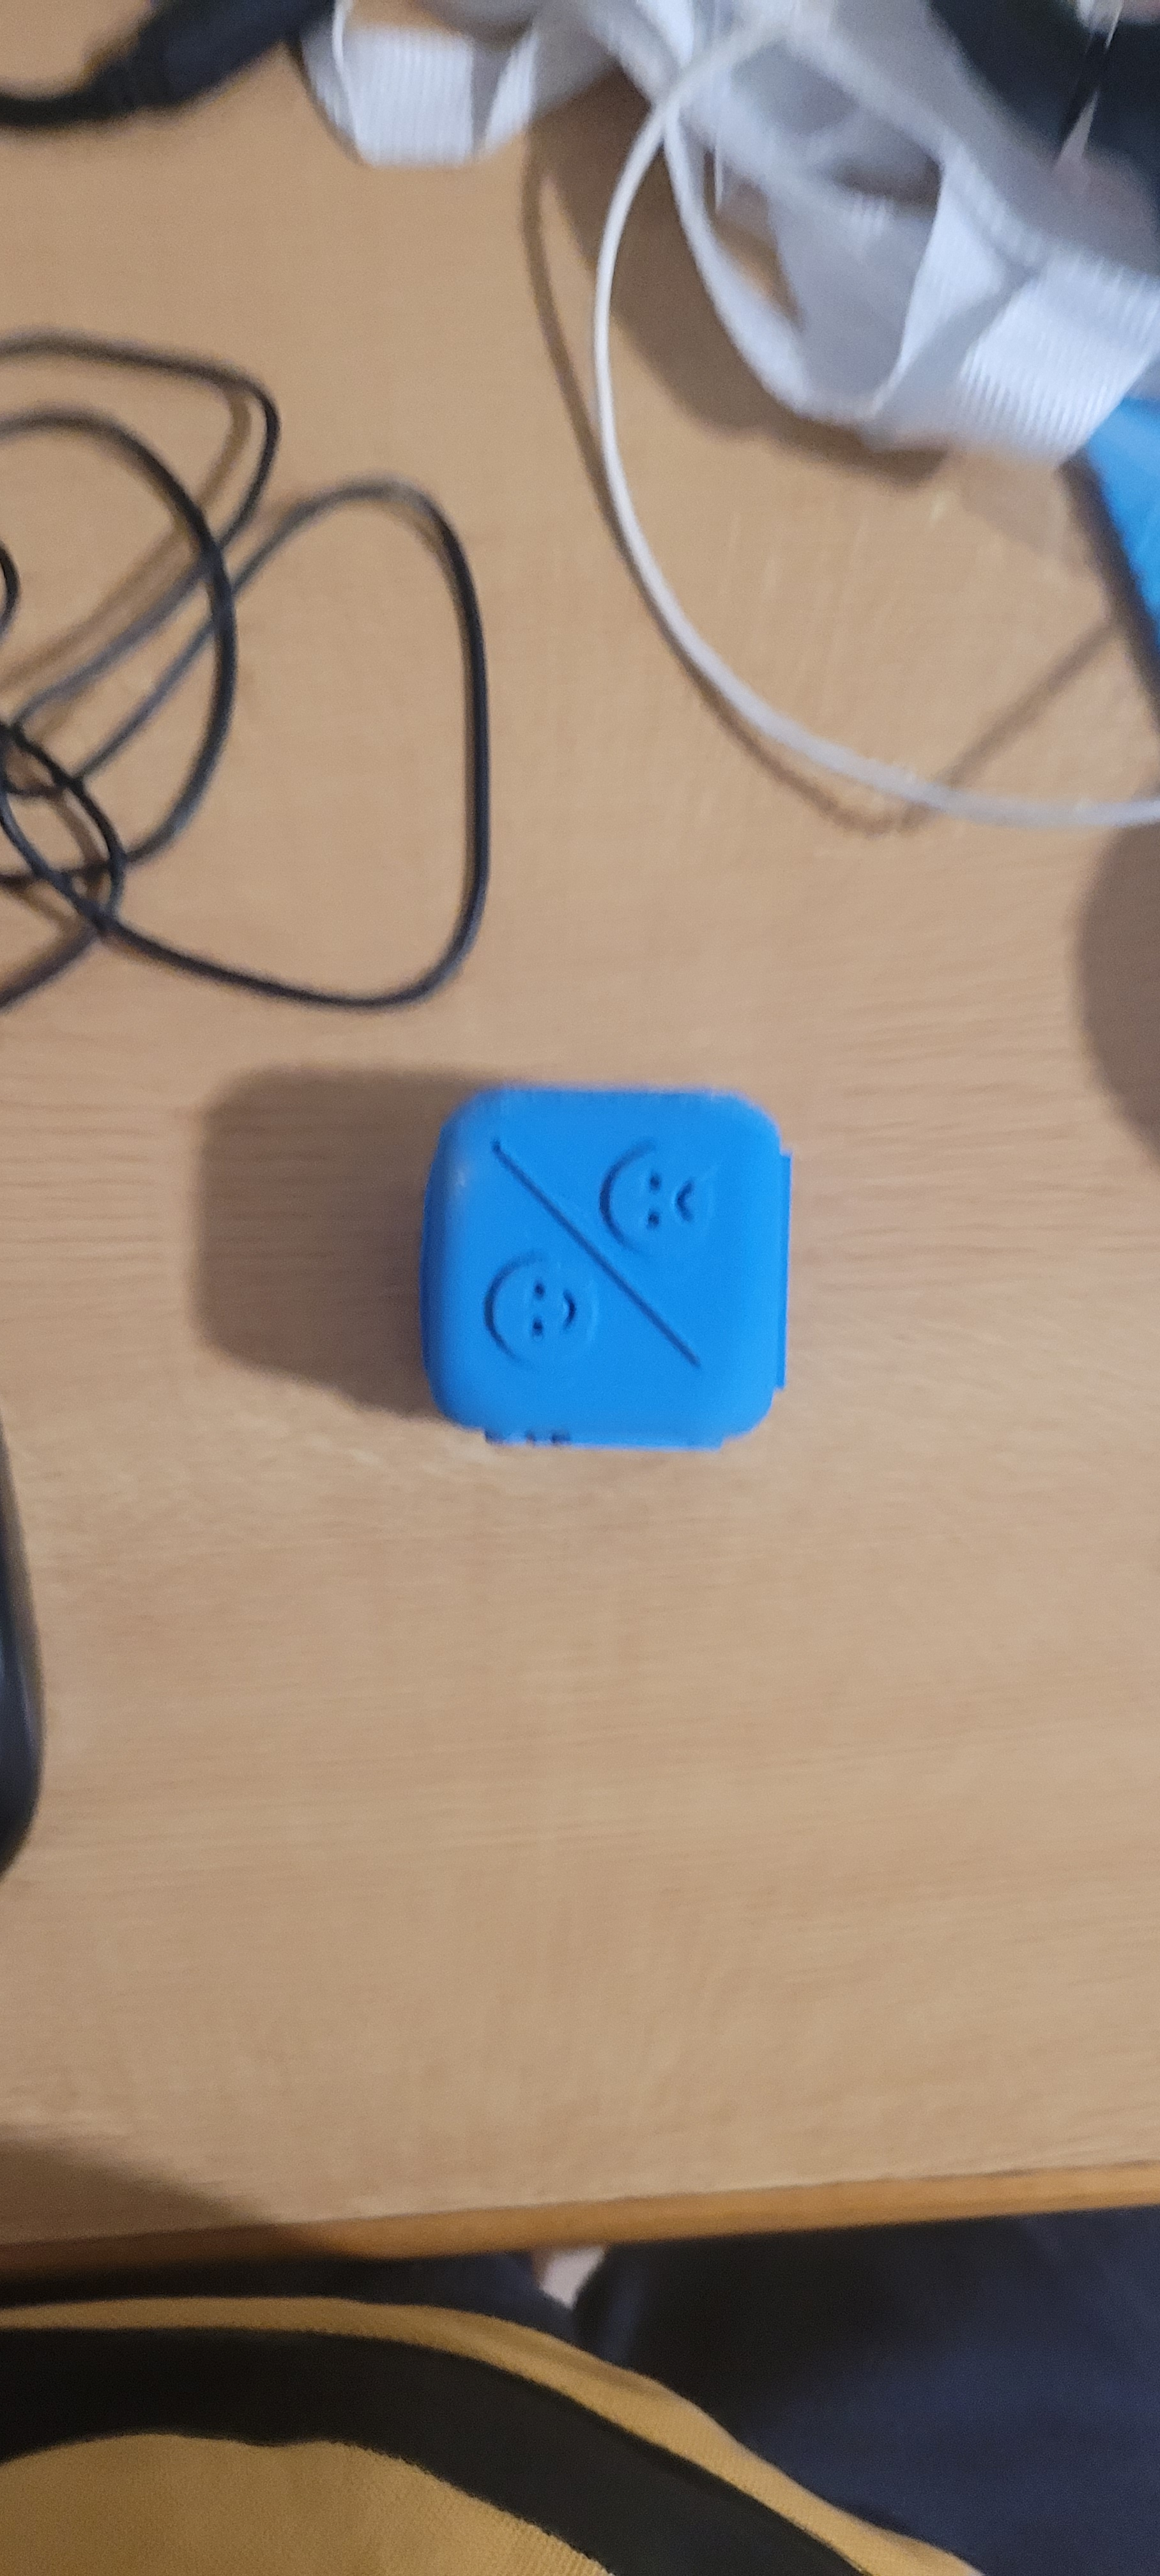Like/Dislike: (444, 1109, 777, 1433)
